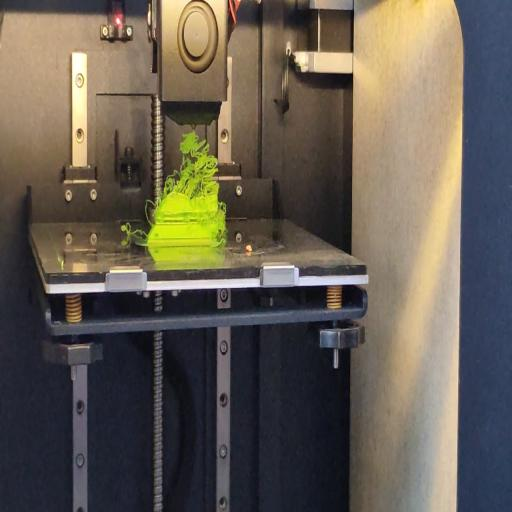spaghetti: (162, 133, 220, 195), (120, 224, 148, 238), (146, 195, 158, 222), (217, 236, 227, 245)
